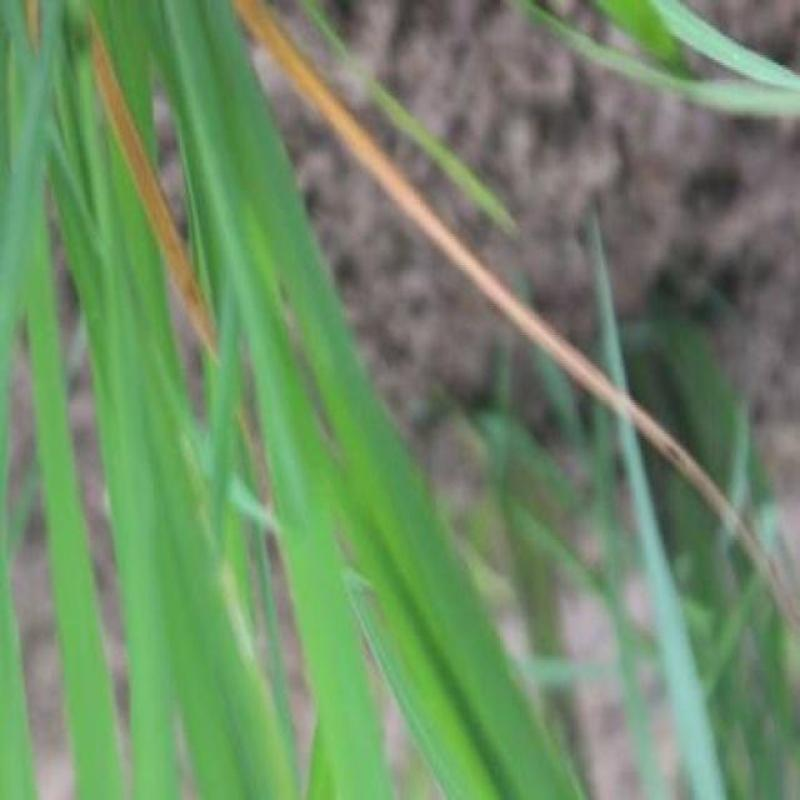Rice Tungro: (470, 225, 710, 510), (96, 104, 214, 358), (342, 102, 448, 278)
